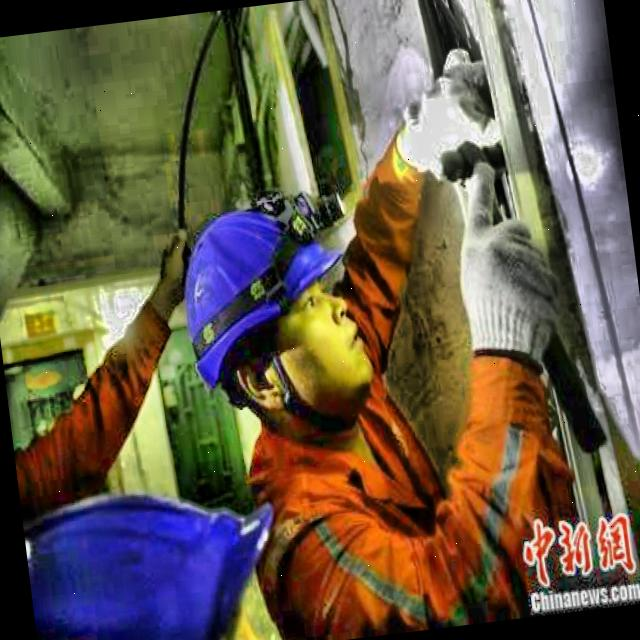helmet: (164, 190, 385, 448)
